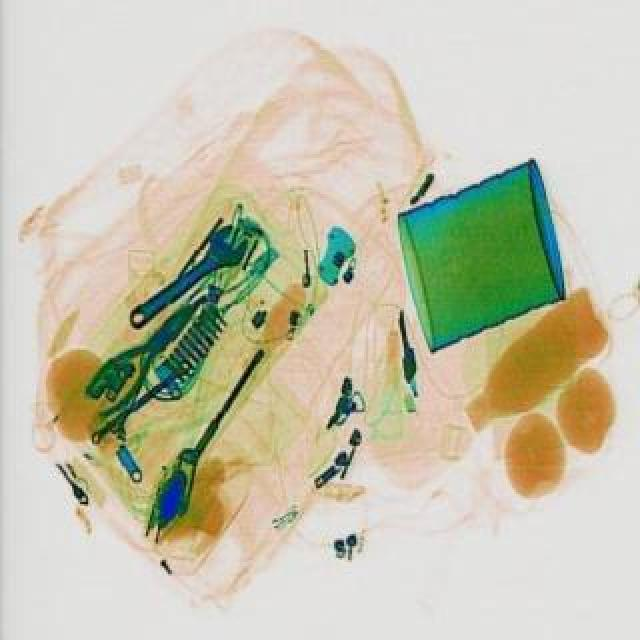scissors: (112, 214, 256, 334)
wrench: (70, 286, 214, 422)
